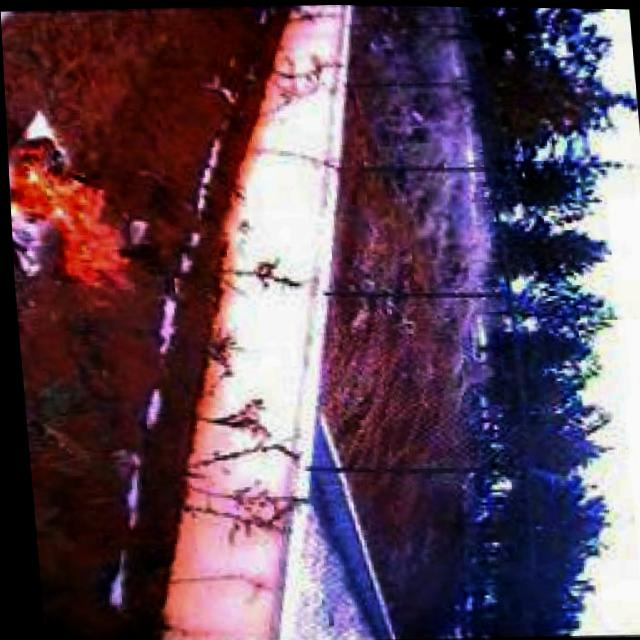helmet: (6, 138, 134, 300)
